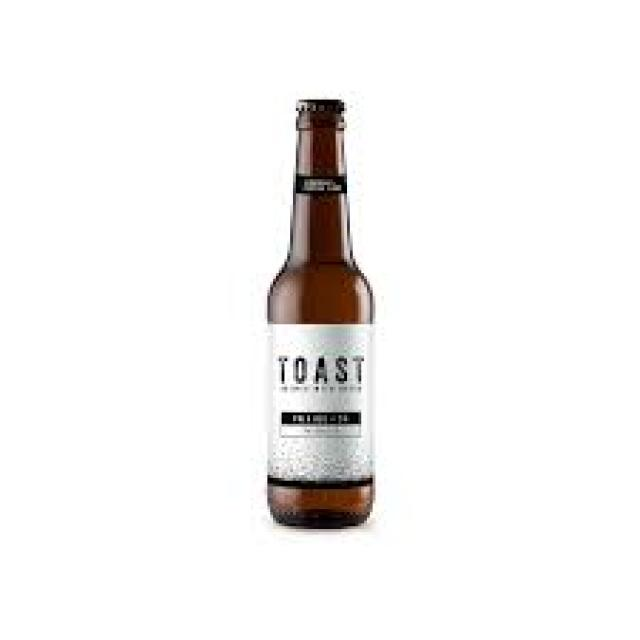glass: (268, 97, 376, 526)
metal: (293, 97, 341, 111)
